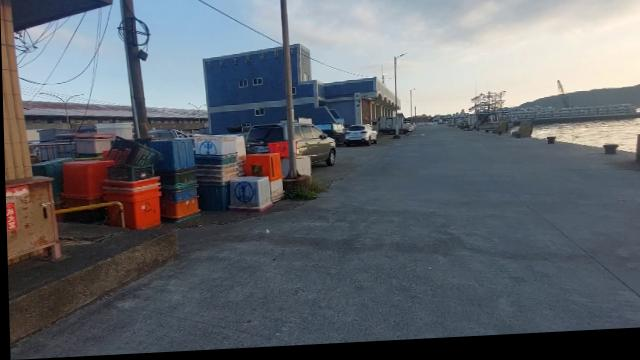pollute: (29, 124, 289, 231), (294, 159, 311, 182)
